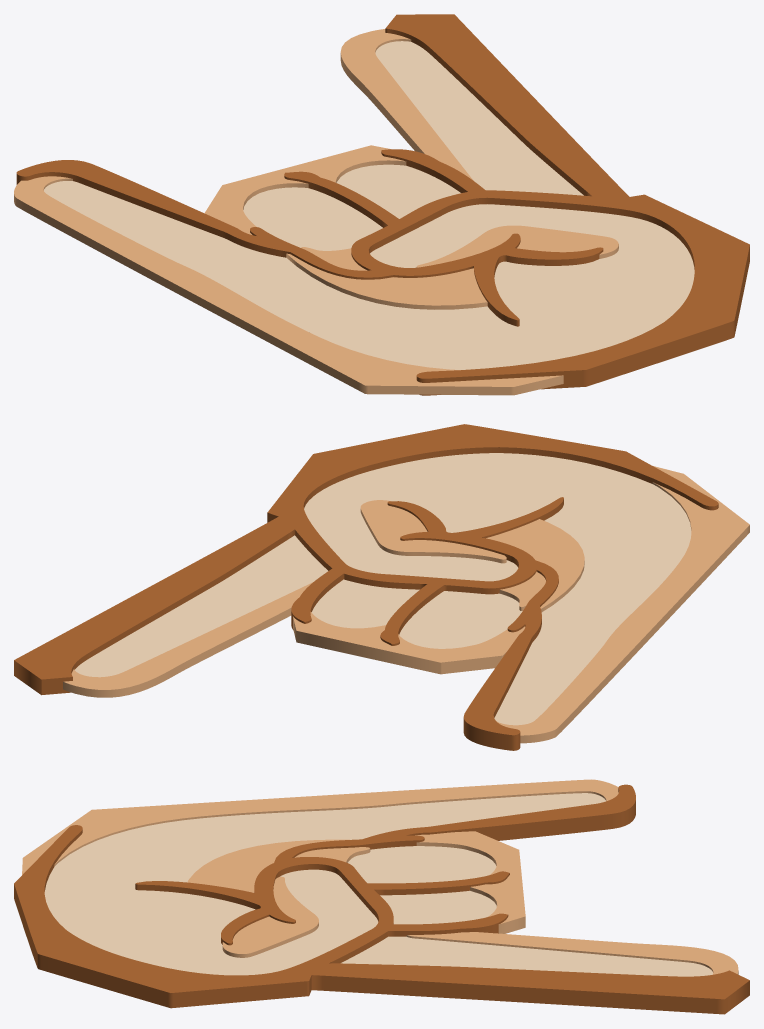
The model's file is emoji_u1f918_1f3fb.glb.
3 renders of one model, top to bottom at view 1: azimuth 30°, elevation 25°; view 2: azimuth 150°, elevation 25°; view 3: azimuth 270°, elevation 25°, orthographic. The views are drawn at different scales.
Parts seen in each view (by area): view 1: emoji_u1f918_1f3fb; view 2: emoji_u1f918_1f3fb; view 3: emoji_u1f918_1f3fb.
Part boxes in pixels (x1,y1,x2,y2): emoji_u1f918_1f3fb: [14, 14, 749, 395]; emoji_u1f918_1f3fb: [14, 424, 749, 750]; emoji_u1f918_1f3fb: [14, 779, 749, 1014].
Bounding box in the file's own units: 0.0254 × 0.0008 × 0.0353.
